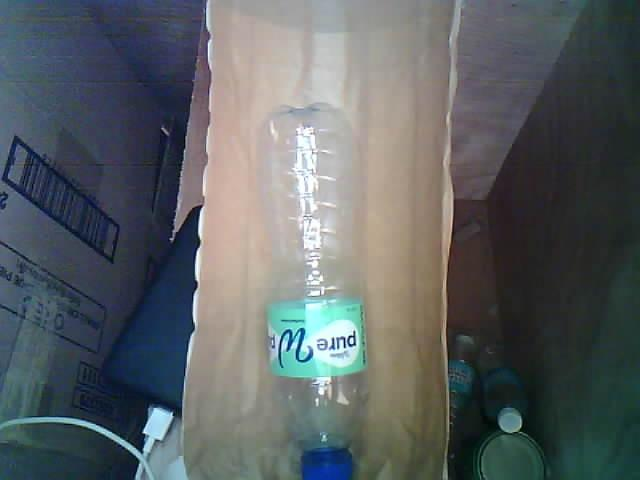small_bottle: (245, 97, 386, 480)
